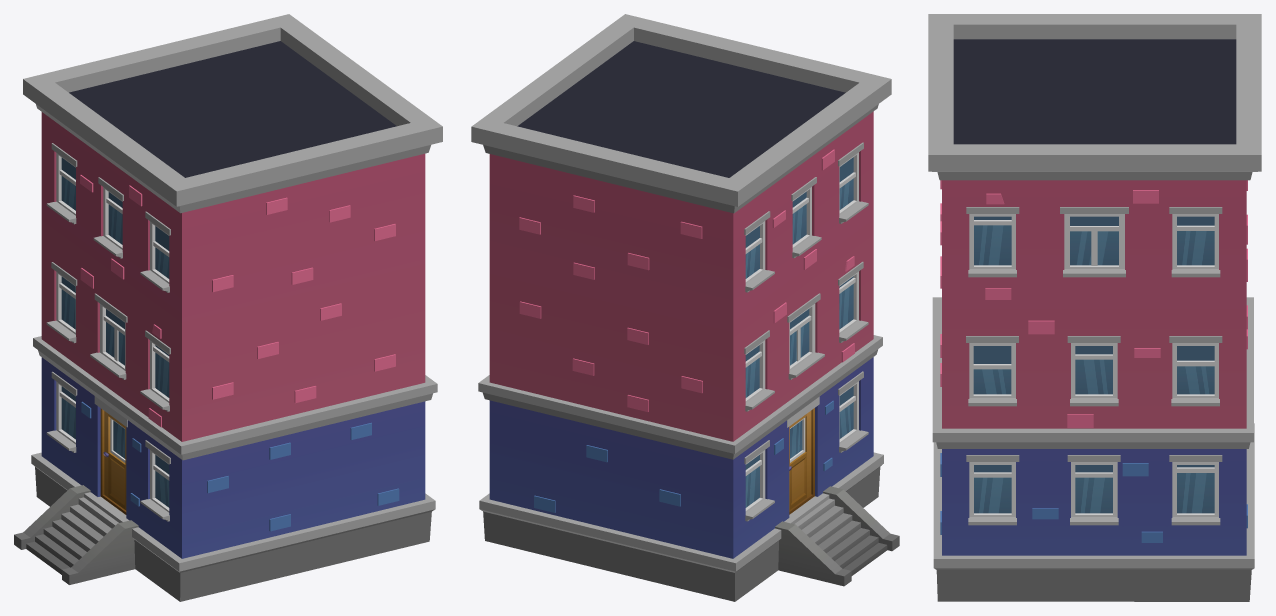
The model's file is Building_2_7_B.fbx.
3 views of the same model, side by side, from view 1: azimuth 30°, elevation 25°; view 2: azimuth 150°, elevation 25°; view 3: azimuth 270°, elevation 25° (orthographic). The views are drawn at different scales.
Parts seen in each view (by area): view 1: Building_2_7_B; view 2: Building_2_7_B; view 3: Building_2_7_B.
Boxes of the visible parts, <box> form: Building_2_7_B: <box>14,14,442,601</box>; Building_2_7_B: <box>471,14,899,601</box>; Building_2_7_B: <box>928,14,1261,601</box>.
Bounding box in the file's own units: 754 × 926 × 620.
